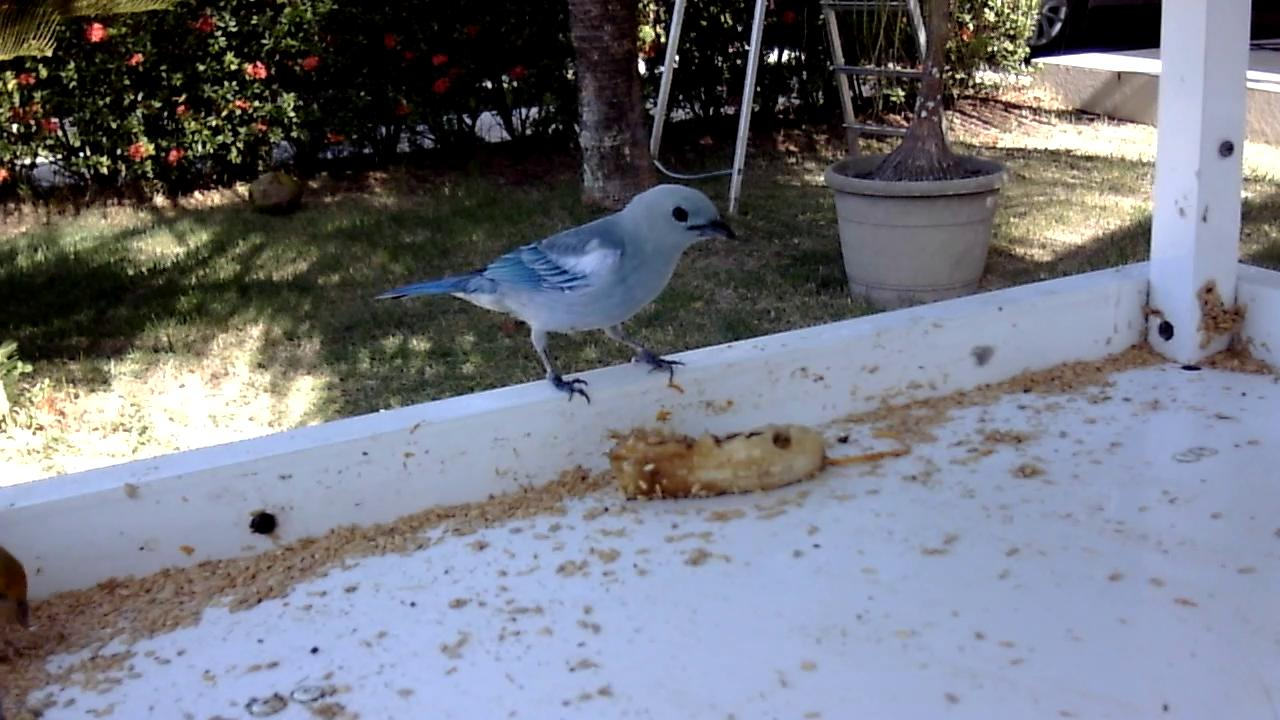sanhaco_da_amazonia: (377, 183, 744, 408)
